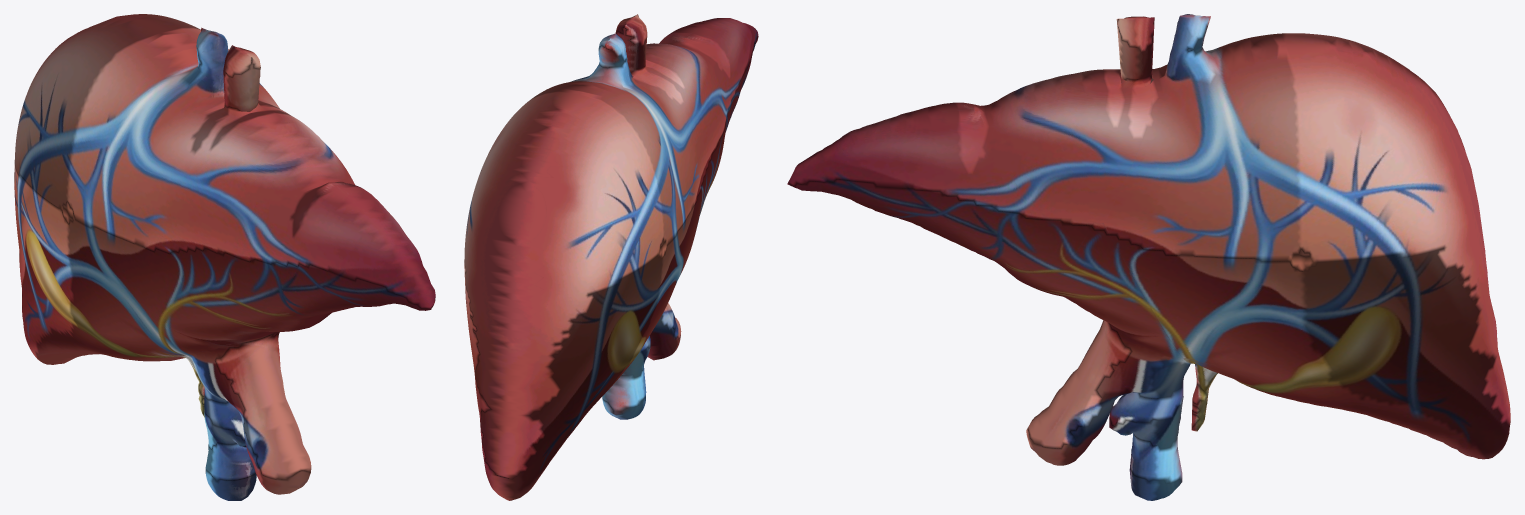
The model's file is hati.glb.
The picture shows the model from 3 angles, left to right: view 1: azimuth 30°, elevation 25°; view 2: azimuth 150°, elevation 25°; view 3: azimuth 270°, elevation 25°; orthographic projection. The views are drawn at different scales.
Parts seen in each view (by area): view 1: root.001_Material.001_0; view 2: root.001_Material.001_0; view 3: root.001_Material.001_0.
Part boxes in pixels (<box>): root.001_Material.001_0: <box>14,14,435,500</box>; root.001_Material.001_0: <box>464,14,758,500</box>; root.001_Material.001_0: <box>787,14,1510,500</box>.
Size of the model in its own units: 1.21 by 2.73 by 3.72.
1 material, 1 textured.
